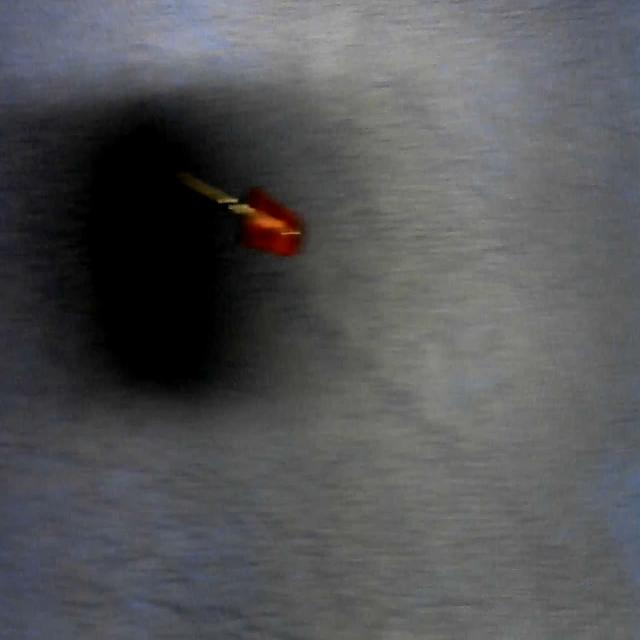LED: (165, 160, 302, 262)
